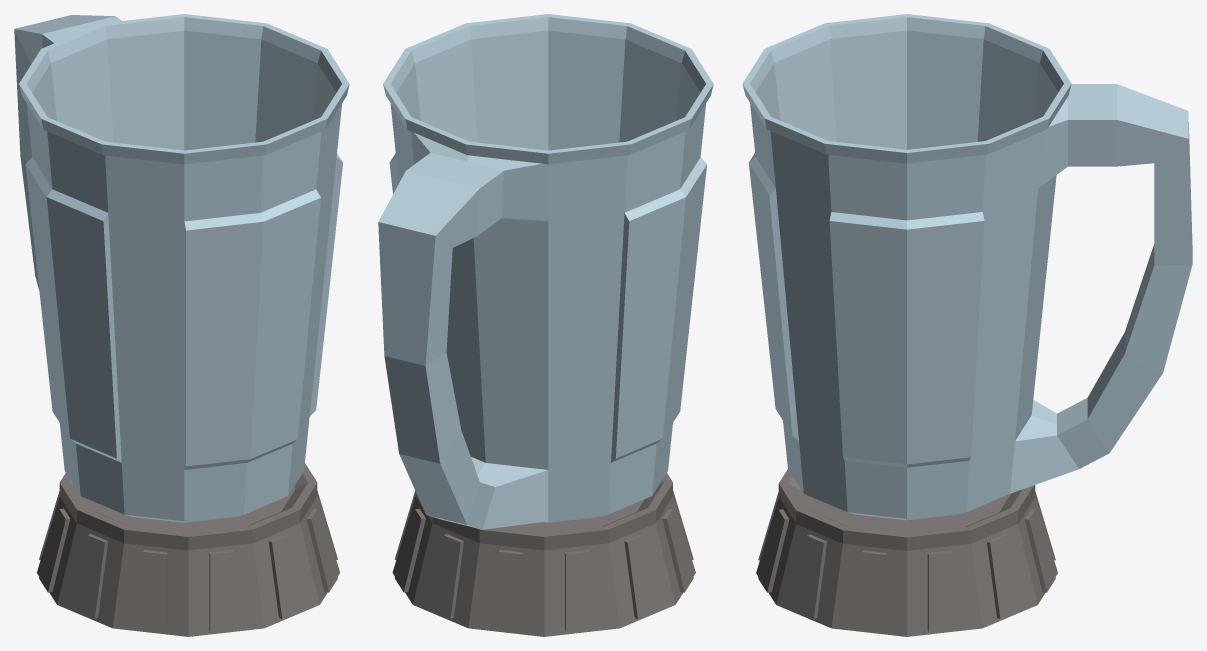
The model's file is capacity_01_A.gltf.
3 views of the same model, side by side, from view 1: azimuth 30°, elevation 25°; view 2: azimuth 150°, elevation 25°; view 3: azimuth 270°, elevation 25° (orthographic).
Visible parts, largest first — view 1: capacity_01_A, blender_01_A; view 2: capacity_01_A, blender_01_A; view 3: capacity_01_A, blender_01_A.
Part boxes in pixels (x1=…): capacity_01_A: x1=14, y1=14, x2=349, y2=522; blender_01_A: x1=37, y1=463, x2=339, y2=636; capacity_01_A: x1=378, y1=14, x2=713, y2=529; blender_01_A: x1=392, y1=473, x2=695, y2=636; capacity_01_A: x1=742, y1=14, x2=1192, y2=520; blender_01_A: x1=756, y1=469, x2=1057, y2=636.
Size of the model in its own units: 0.1366 by 0.2239 by 0.1868.
Materials: 1 (1 with a texture image).
